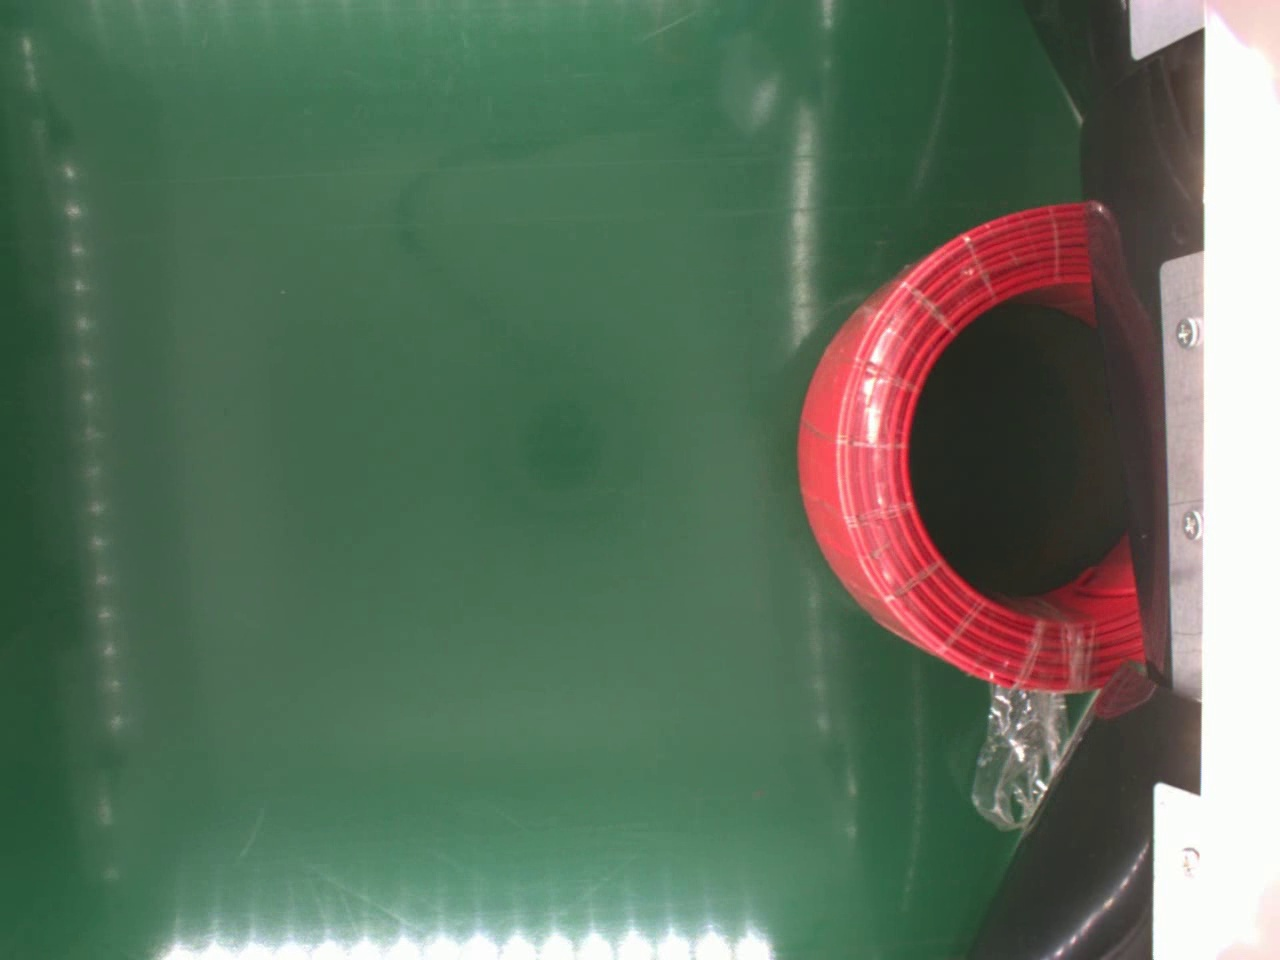red: (791, 202, 1150, 699)
